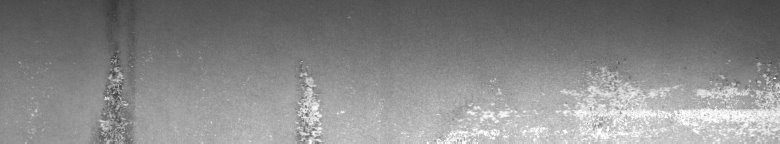hc: (32, 51, 136, 136)
